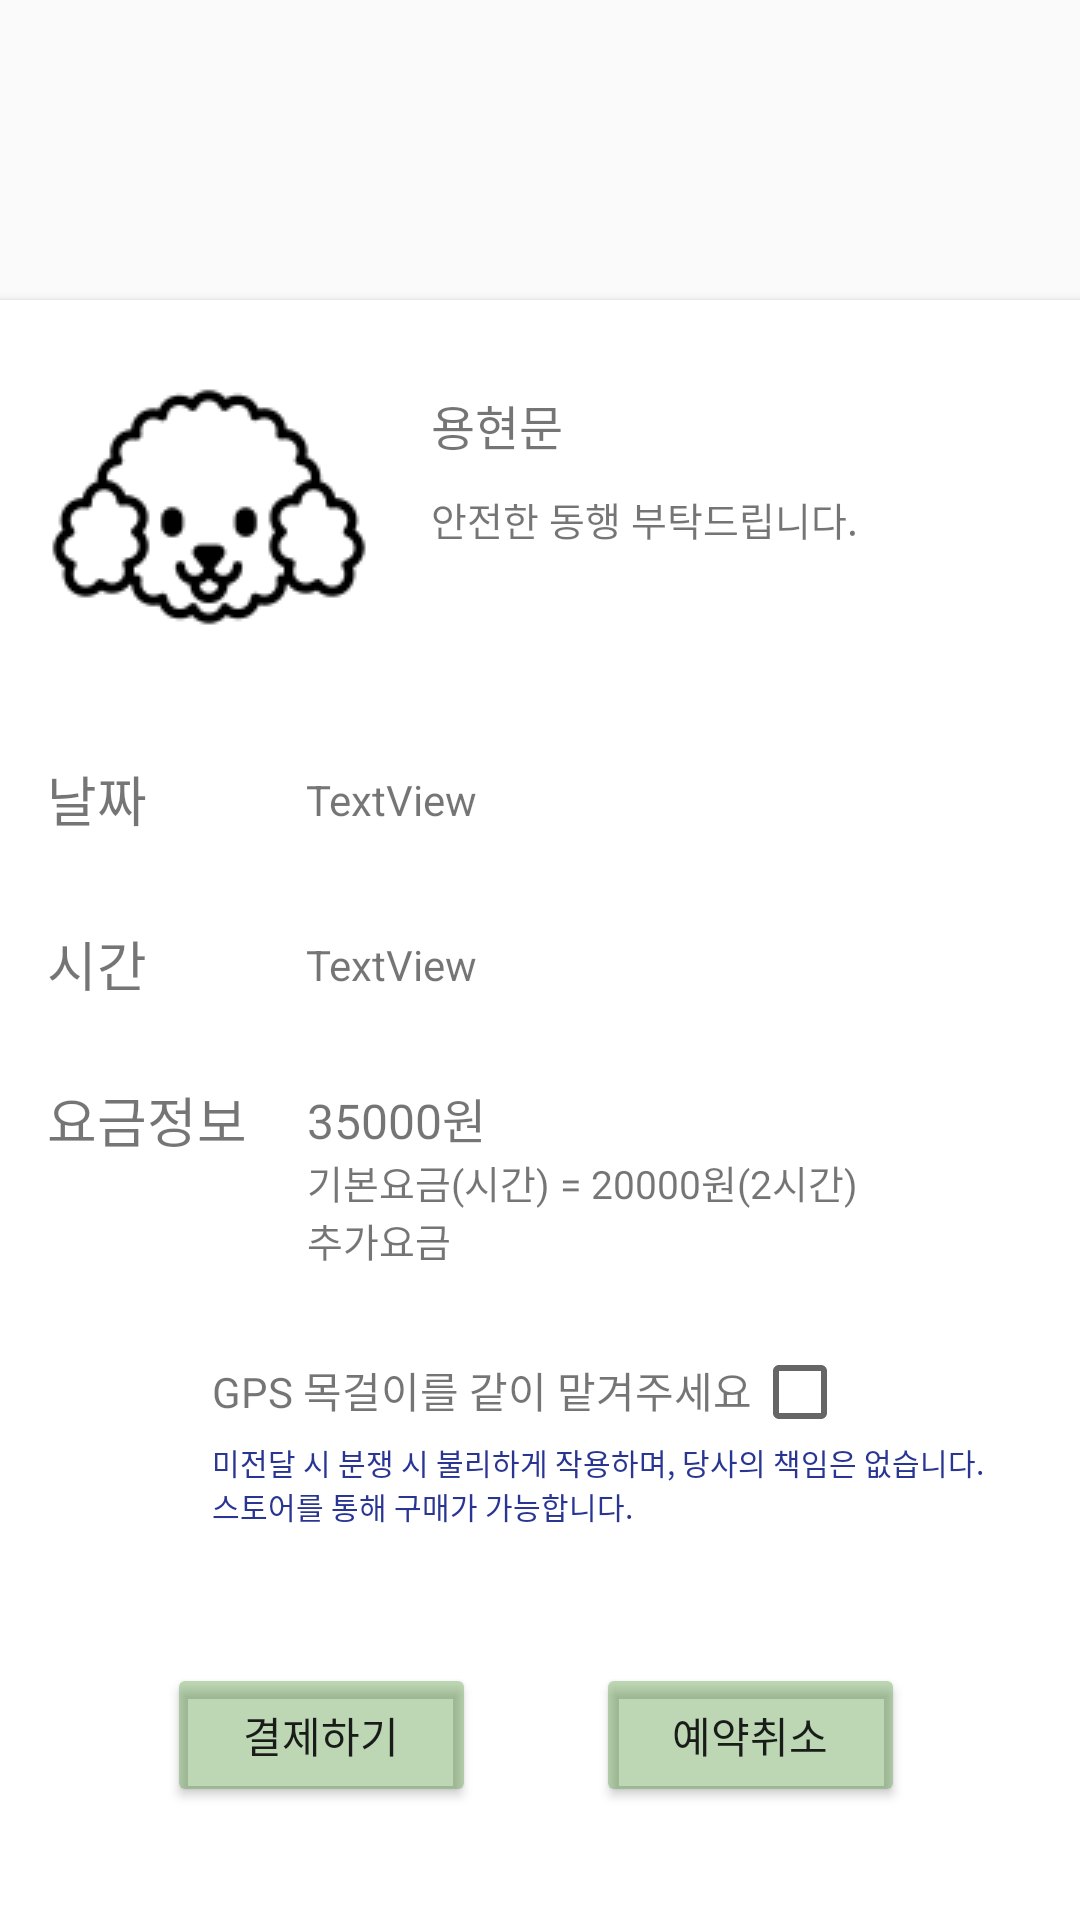

Icons on this 1080×1920 Android screen, each with the point to tap as (x=x, y=y):
dog: (x=209, y=507)
